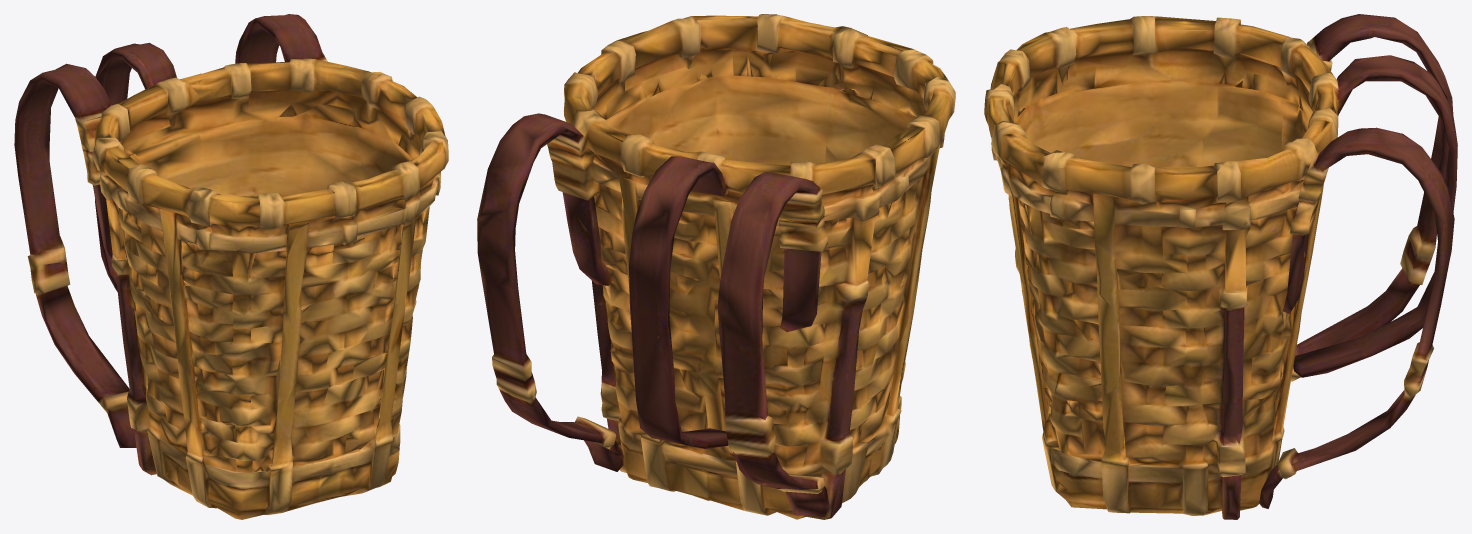
Rendered from basket.glb.
The picture shows the model from 3 angles, left to right: view 1: azimuth 30°, elevation 25°; view 2: azimuth 150°, elevation 25°; view 3: azimuth 270°, elevation 25°; orthographic projection. The views are drawn at different scales.
Visible parts, largest first — view 1: tripo_node_9d2eba98-b591-4490-9aa3-e92dc866c92a; view 2: tripo_node_9d2eba98-b591-4490-9aa3-e92dc866c92a; view 3: tripo_node_9d2eba98-b591-4490-9aa3-e92dc866c92a.
Boxes of the visible parts, left/top/right/bottom form: tripo_node_9d2eba98-b591-4490-9aa3-e92dc866c92a: left=14, top=14, right=448, bottom=519; tripo_node_9d2eba98-b591-4490-9aa3-e92dc866c92a: left=477, top=14, right=955, bottom=519; tripo_node_9d2eba98-b591-4490-9aa3-e92dc866c92a: left=984, top=14, right=1457, bottom=519.
Size of the model in its own units: 0.7866 by 0.8953 by 0.9774.
Materials: 1 (1 with a texture image).
